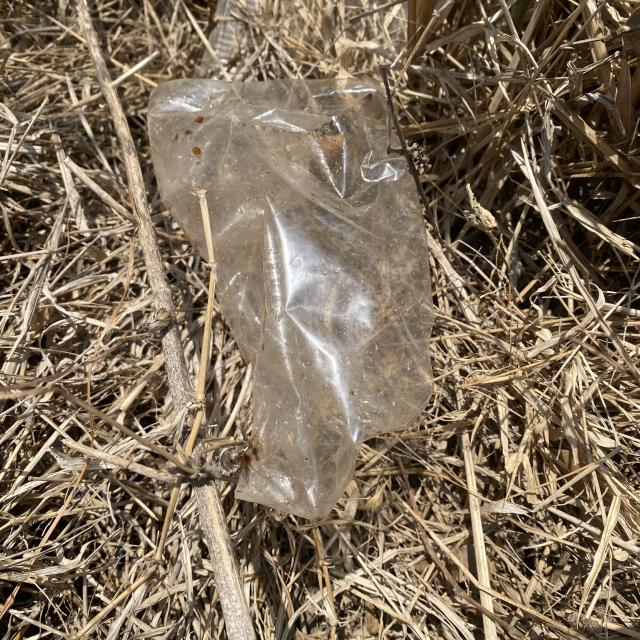Single-layer Plastic: (149, 79, 434, 520)
